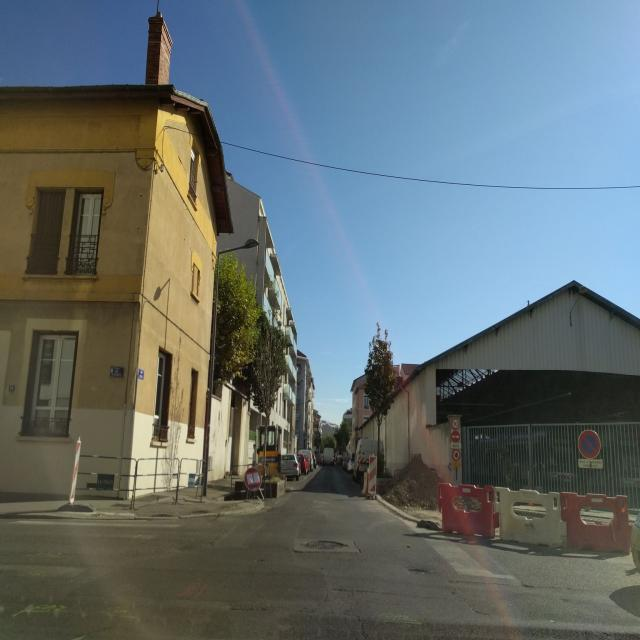forb_stopping: (578, 429, 601, 459)
